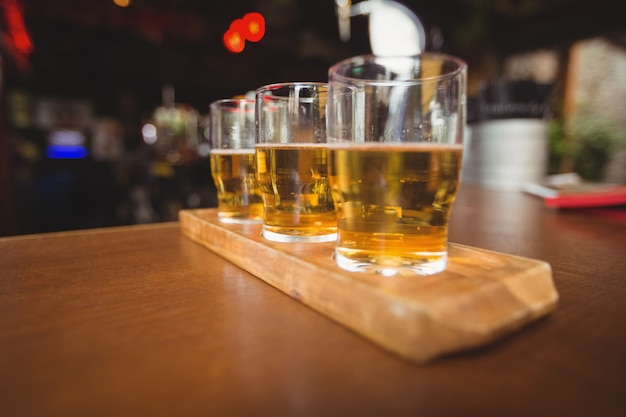alcohol: (326, 55, 469, 272), (252, 82, 357, 241), (208, 99, 283, 225)
